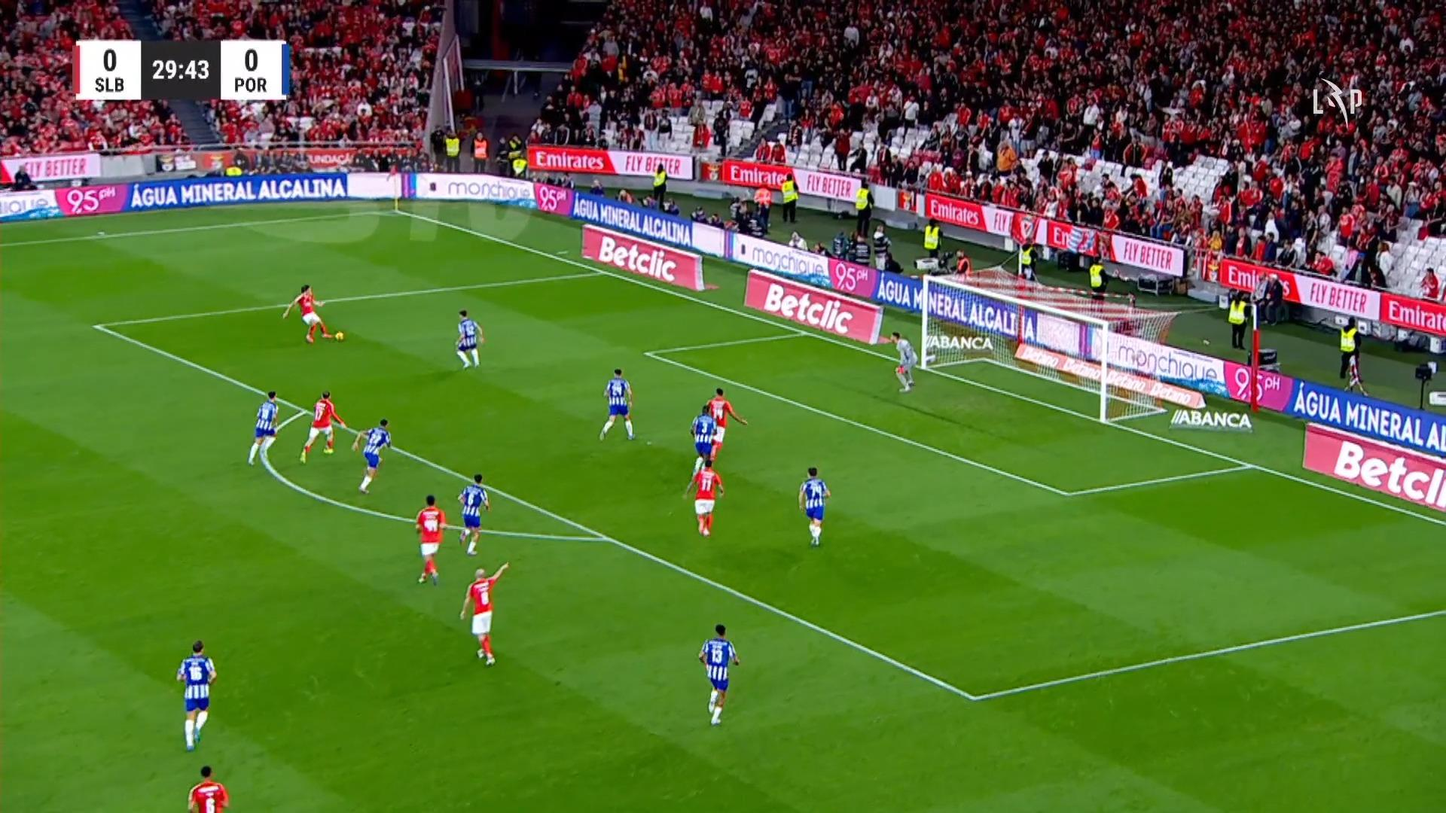ball: (334, 330, 343, 341)
goalkeeper: (885, 330, 917, 393)
player: (458, 561, 510, 666), (175, 640, 217, 751), (697, 623, 740, 725), (298, 390, 345, 464), (683, 458, 725, 537), (704, 386, 747, 462), (350, 418, 392, 494), (414, 494, 447, 585), (281, 283, 331, 343), (456, 472, 490, 556), (598, 367, 636, 441), (797, 466, 831, 547), (246, 390, 279, 466), (688, 402, 718, 482), (187, 765, 229, 811), (454, 309, 484, 369)
